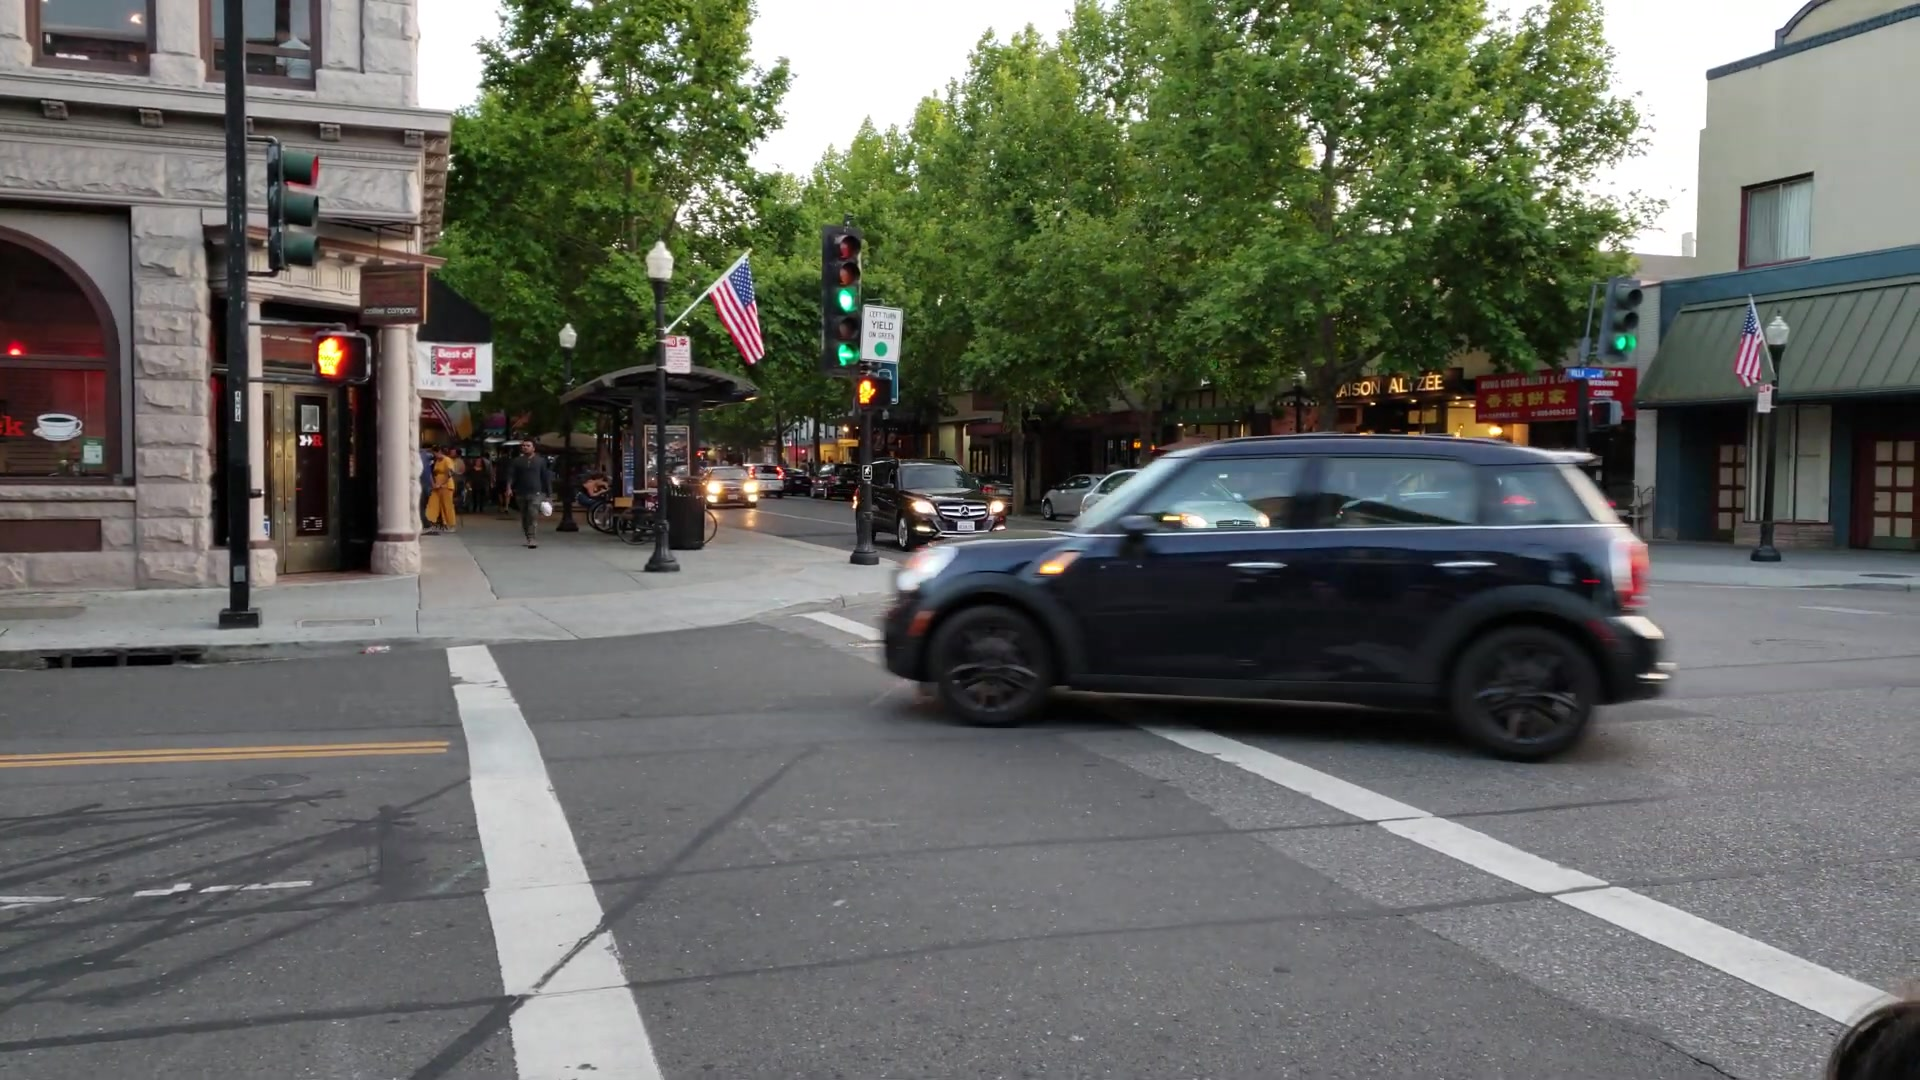vehicle: (882, 440, 1673, 764)
